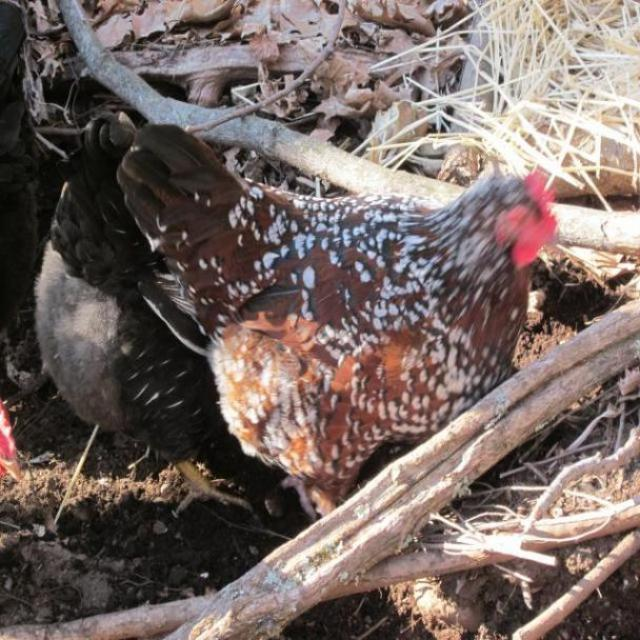Chicken: (121, 123, 554, 511)
